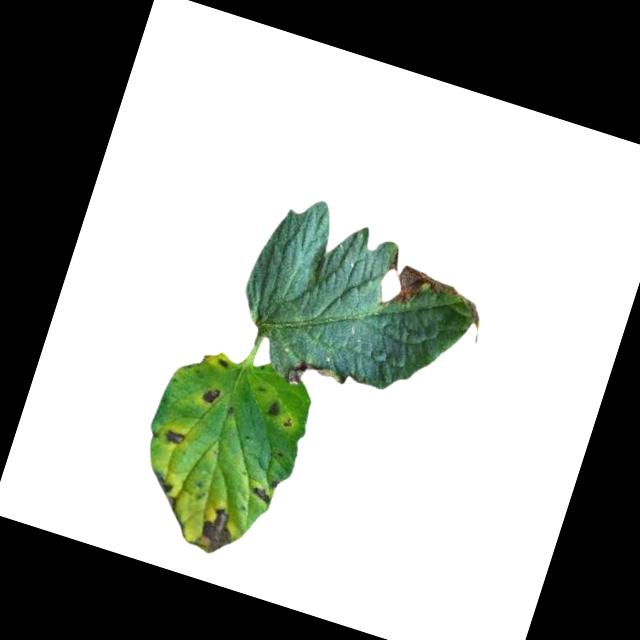Early_blight: (371, 251, 503, 346), (185, 499, 242, 561), (283, 352, 342, 398), (147, 469, 176, 496), (245, 485, 275, 506), (200, 384, 223, 408), (164, 428, 187, 450), (265, 399, 285, 422), (214, 358, 230, 372)
